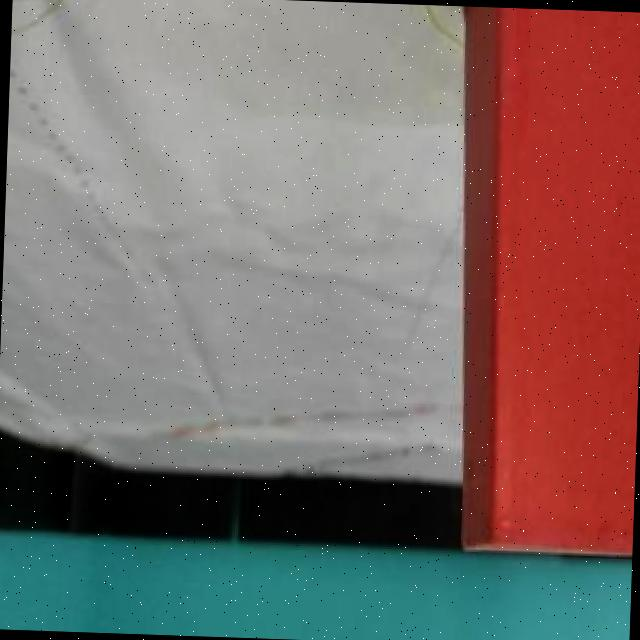redbox: (441, 5, 640, 560)
